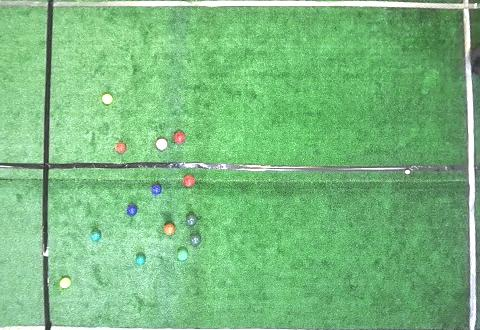blue: (127, 204, 138, 215), (152, 184, 162, 194)
green: (190, 234, 201, 245), (178, 249, 188, 261), (91, 230, 101, 241), (136, 255, 146, 265), (187, 215, 197, 225)
red: (183, 175, 195, 187), (156, 138, 168, 150), (164, 223, 175, 235), (174, 132, 186, 143), (117, 143, 126, 153)
vline: (1, 0, 54, 329), (461, 0, 479, 330)
white: (405, 170, 410, 174)
yellow: (59, 277, 71, 288), (102, 94, 113, 104)
